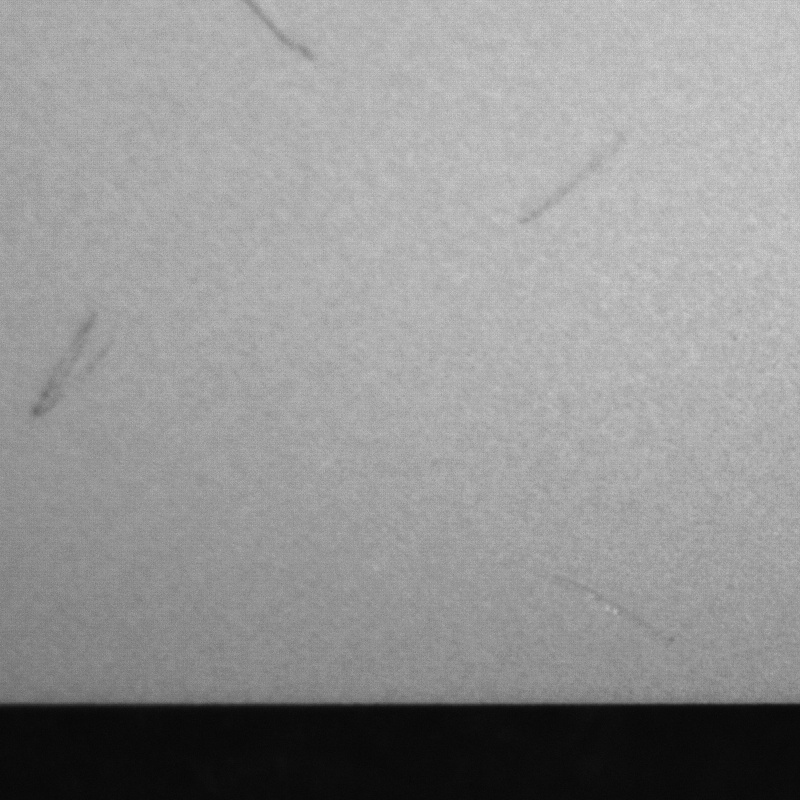defect: (34, 307, 133, 414), (527, 122, 629, 222), (561, 576, 681, 647), (245, 1, 321, 63)
